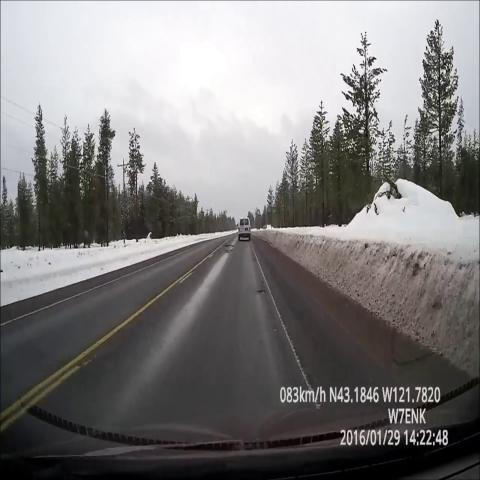pothole: (222, 233, 238, 260), (257, 280, 268, 302)
